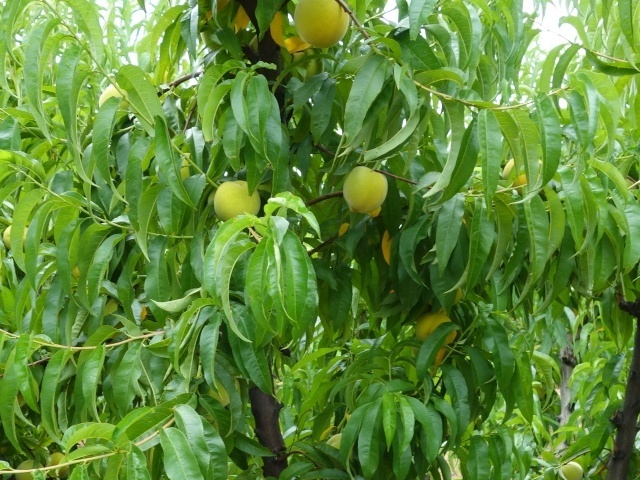peach: (285, 1, 355, 50), (337, 160, 392, 217), (210, 176, 264, 227), (412, 305, 460, 353), (1, 222, 30, 253)
